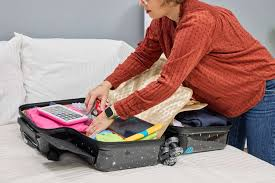suitcase: (17, 93, 227, 171)
